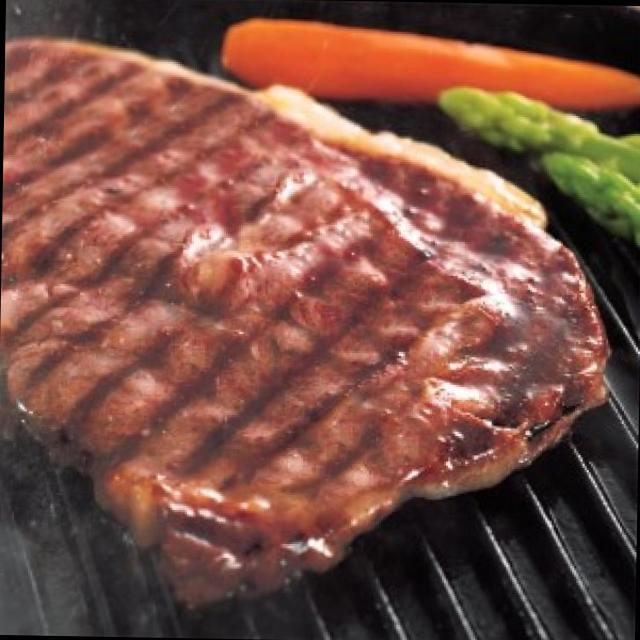Beef Steak: (0, 84, 597, 559)
